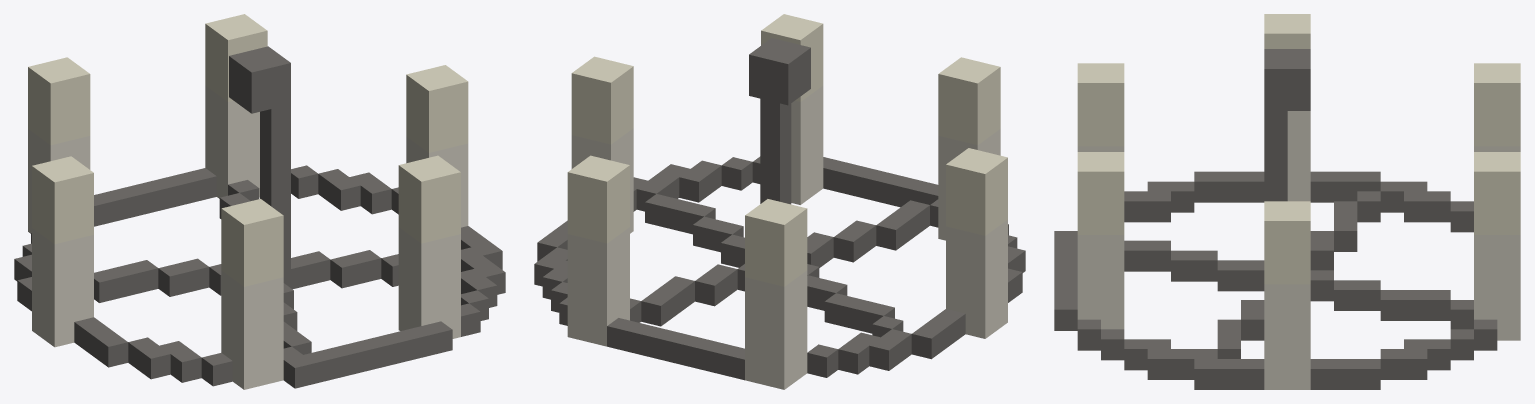
File: lampara_arana_cobre_01.glb
The picture shows the model from 3 angles, left to right: view 1: azimuth 30°, elevation 25°; view 2: azimuth 150°, elevation 25°; view 3: azimuth 270°, elevation 25°; orthographic projection. The views are drawn at different scales.
Visible parts, largest first — view 1: lampara_arana_cobre; view 2: lampara_arana_cobre; view 3: lampara_arana_cobre.
Part boxes in pixels (x1,y1,x2,y2): lampara_arana_cobre: [14, 14, 505, 389]; lampara_arana_cobre: [534, 14, 1025, 389]; lampara_arana_cobre: [1054, 14, 1520, 389].
Bounding box in the file's own units: 1.4 × 0.7333 × 1.33.
